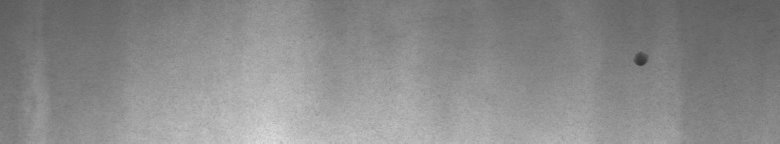fi: (629, 46, 652, 76)
